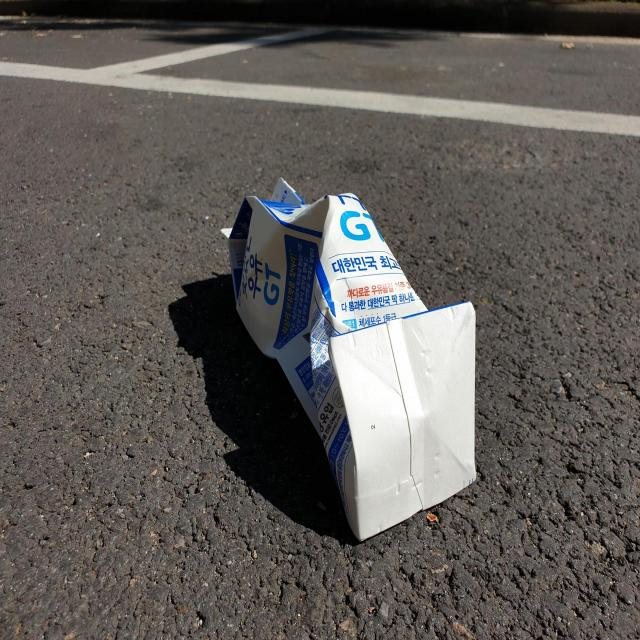paperpack: (228, 179, 477, 541)
